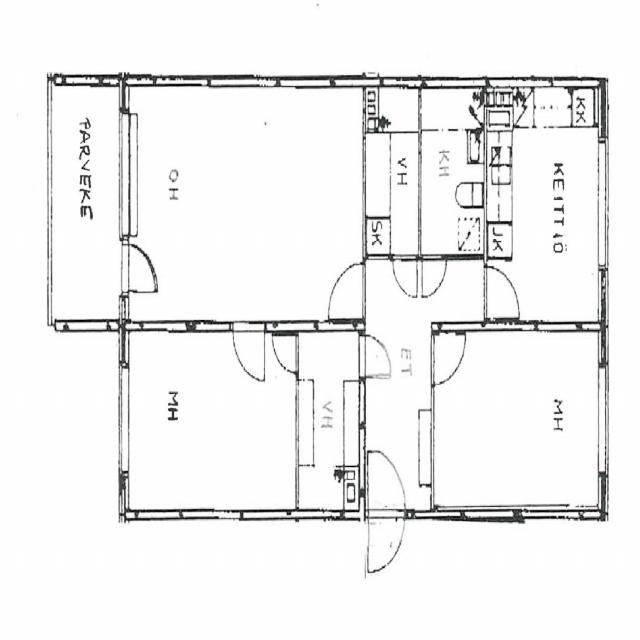door: (368, 509, 403, 574), (368, 453, 403, 518), (326, 263, 365, 318), (119, 244, 159, 291), (484, 266, 520, 318), (233, 321, 264, 378), (431, 334, 466, 384), (359, 334, 393, 378), (392, 254, 417, 297), (422, 254, 446, 296), (272, 334, 298, 372)
